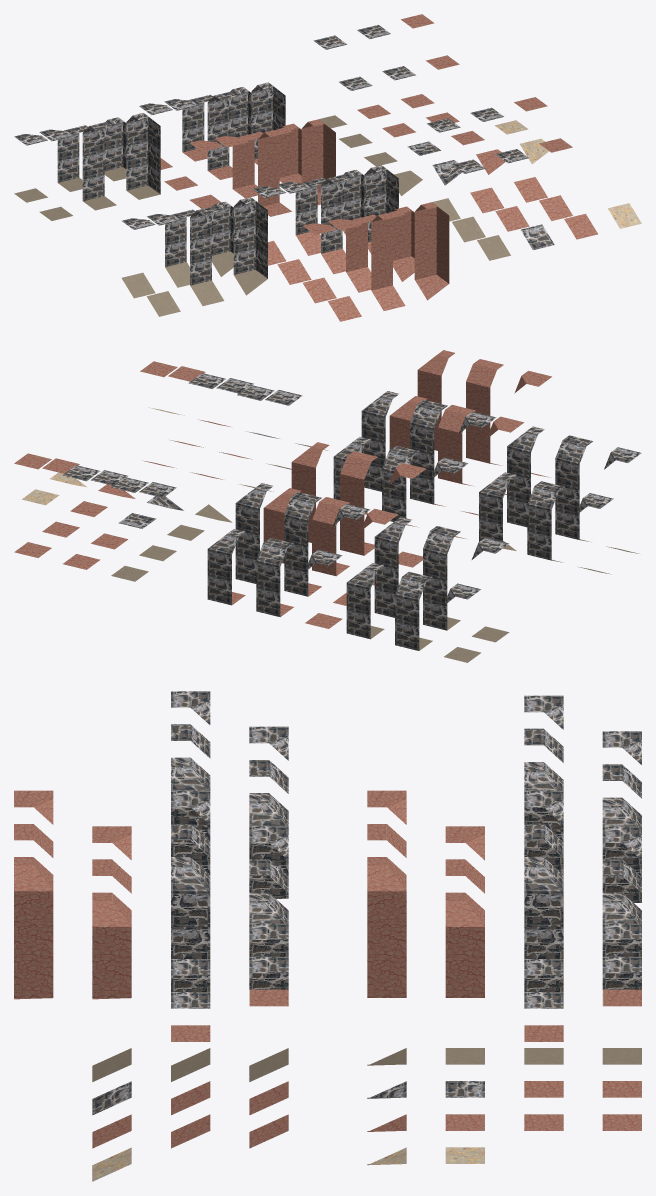
File: GameWalls.glb
The picture shows the model from 3 angles, top to bottom: view 1: azimuth 30°, elevation 25°; view 2: azimuth 150°, elevation 25°; view 3: azimuth 270°, elevation 25°; orthographic projection. The views are drawn at different scales.
Parts seen in each view (by area): view 1: fleshfull-edge-ramp-tall-col, edge-ramp-tall-col, edge-tall-col, wall-ramp-tall-col, fleshfull-wall-ramp-tall-col, fleshfull-dge-tall-col, wall-tall-col, flesh-wall-ramp-tall-col, flesh-wall-tall-col, fleshfull-wall-tall-col, flesh-edge-ramp-tall-col, flesh-edge-tall-col (+38 smaller); view 2: flesh-wall-tall-col, wall-tall-col, wall-ramp-tall-col, flesh-wall-ramp-tall-col, fleshfull-wall-tall-col, fleshfull-wall-ramp-tall-col, flesh-edge-tall-col, edge-tall-col, edge-ramp-tall-col, flesh-wall-small-col, wall-small-col, flesh-edge-ramp-tall-col (+23 smaller); view 3: fleshfull-edge-ramp-tall-col, fleshfull-dge-tall-col, flesh-edge-tall-col, flesh-edge-ramp-tall-col, fleshfull-edge-ramp-small-col, fleshfull-edge-small-col, edge-ramp-tall-col, edge-ramp-small-col, flesh-edge-small-col, flesh-edge-ramp-small-col, edge-small-col, edge-tall-col (+40 smaller).
Boxes of the visible parts, <box> form: fleshfull-edge-ramp-tall-col: <box>414,202,449,300</box>; edge-ramp-tall-col: <box>233,197,267,295</box>; edge-tall-col: <box>126,113,160,199</box>; wall-ramp-tall-col: <box>190,205,224,305</box>; fleshfull-wall-ramp-tall-col: <box>371,210,405,310</box>; fleshfull-dge-tall-col: <box>301,119,335,205</box>; wall-tall-col: <box>82,121,116,210</box>; flesh-wall-ramp-tall-col: <box>321,173,354,274</box>; flesh-wall-tall-col: <box>207,90,241,179</box>; fleshfull-wall-tall-col: <box>258,127,291,216</box>; flesh-edge-ramp-tall-col: <box>364,165,398,253</box>; flesh-edge-tall-col: <box>251,82,285,164</box>; flesh-wall-tall-col: <box>284,492,321,596</box>; wall-tall-col: <box>423,526,460,630</box>; wall-ramp-tall-col: <box>555,435,592,542</box>; flesh-wall-ramp-tall-col: <box>410,400,447,506</box>; fleshfull-wall-tall-col: <box>340,451,377,555</box>; fleshfull-wall-ramp-tall-col: <box>466,359,503,465</box>; flesh-edge-tall-col: <box>235,483,273,583</box>; edge-tall-col: <box>374,517,411,617</box>; edge-ramp-tall-col: <box>507,426,544,527</box>; flesh-wall-small-col: <box>256,538,293,617</box>; wall-small-col: <box>395,571,432,650</box>; flesh-edge-ramp-tall-col: <box>361,391,398,491</box>; fleshfull-edge-ramp-tall-col: <box>14,857,53,999</box>; fleshfull-dge-tall-col: <box>367,857,406,997</box>; flesh-edge-tall-col: <box>524,857,563,991</box>; flesh-edge-ramp-tall-col: <box>171,857,210,991</box>; fleshfull-edge-ramp-small-col: <box>92,892,131,999</box>; fleshfull-edge-small-col: <box>445,892,484,997</box>; edge-ramp-tall-col: <box>171,757,210,874</box>; edge-ramp-small-col: <box>249,793,288,898</box>; flesh-edge-small-col: <box>602,892,641,989</box>; flesh-edge-ramp-small-col: <box>249,892,288,989</box>; edge-small-col: <box>602,797,641,902</box>; edge-tall-col: <box>524,762,563,874</box>.
Bounding box in the file's own units: 21 × 4 × 16.
1 material, 1 textured.
